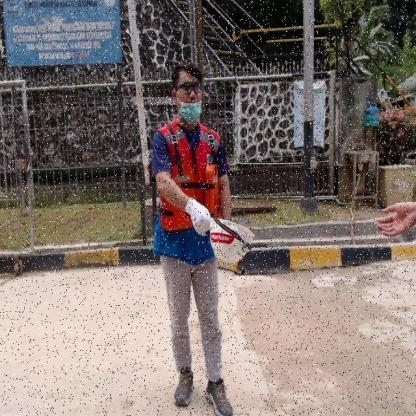boots: (204, 378, 234, 416), (174, 364, 196, 410)
gloves: (184, 193, 214, 240)
goggles: (176, 82, 202, 94)
helmet: (208, 214, 256, 265)
mask: (179, 102, 202, 122)
vest: (162, 162, 224, 230)
